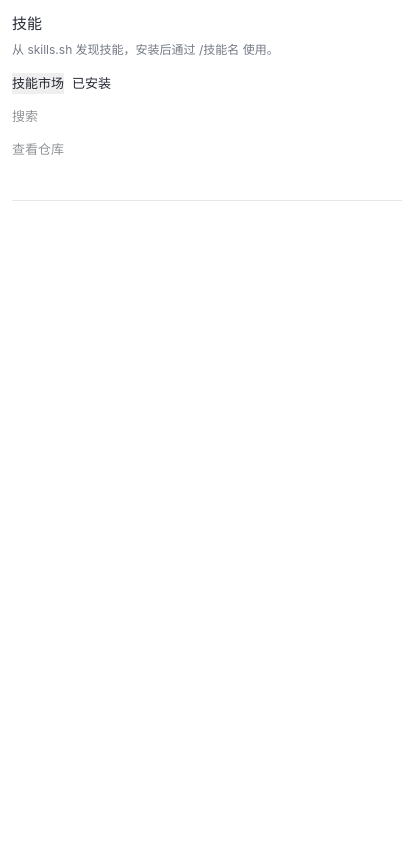
Test: skill manager › compares installed and market revisions then synchronizes the checked version
The width and height of the screenshot is (414, 856).
What coordinates should you click on to do the following:
click the button "已安装"
I would click on:
 (92, 84)
Its box is [72, 73, 111, 94].
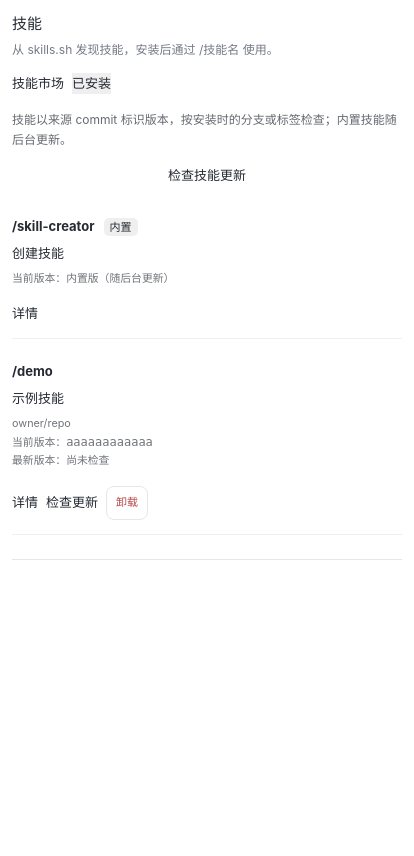
Now the text "aaaaaaaaaaaa" is shown, box [66, 435, 153, 449]
What coordinates should you click on to do the following:
click the button "检查技能更新"
I would click on:
 (207, 176)
Its box is [12, 165, 402, 186].
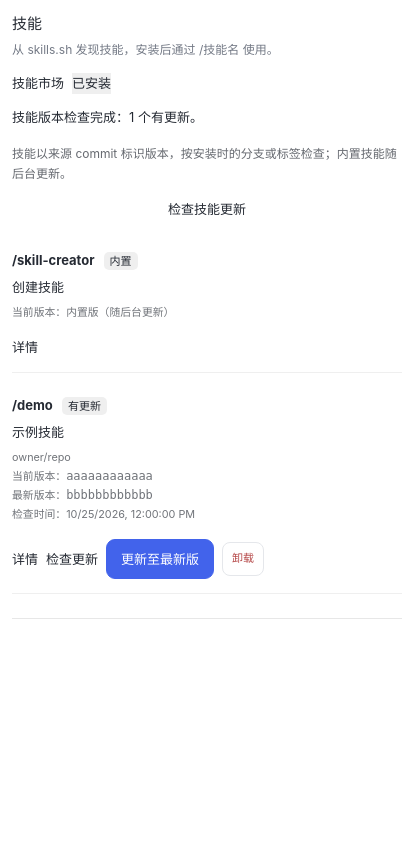
Now the text "技能版本检查完成：1 个有更新。" is shown, box [12, 109, 203, 125]
Now the text "bbbbbbbbbbbb" is shown, box [66, 488, 153, 502]
What coordinates should you click on to do the following:
click the button "更新至最新版"
I would click on:
 (160, 559)
Its box is [106, 539, 214, 579].
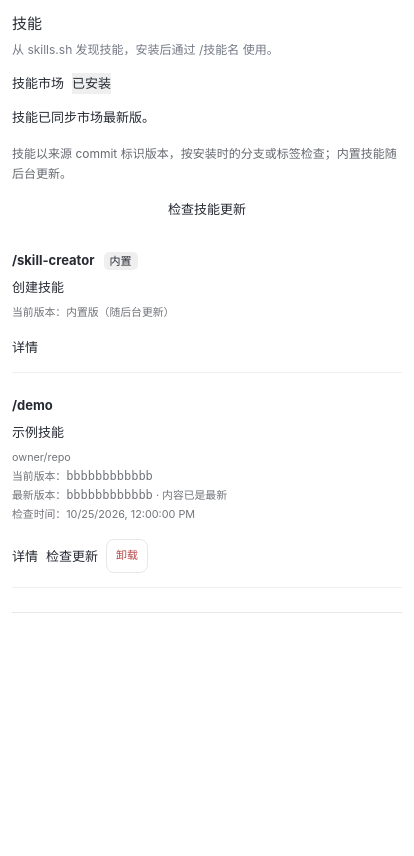
Now the text "技能已同步市场最新版。" is shown, box [12, 109, 155, 125]
Now the button "更新至最新版" is gone
Now the text "最新版本：bbbbbbbbbbbb · 内容已是最新" is shown, box [12, 488, 227, 502]
